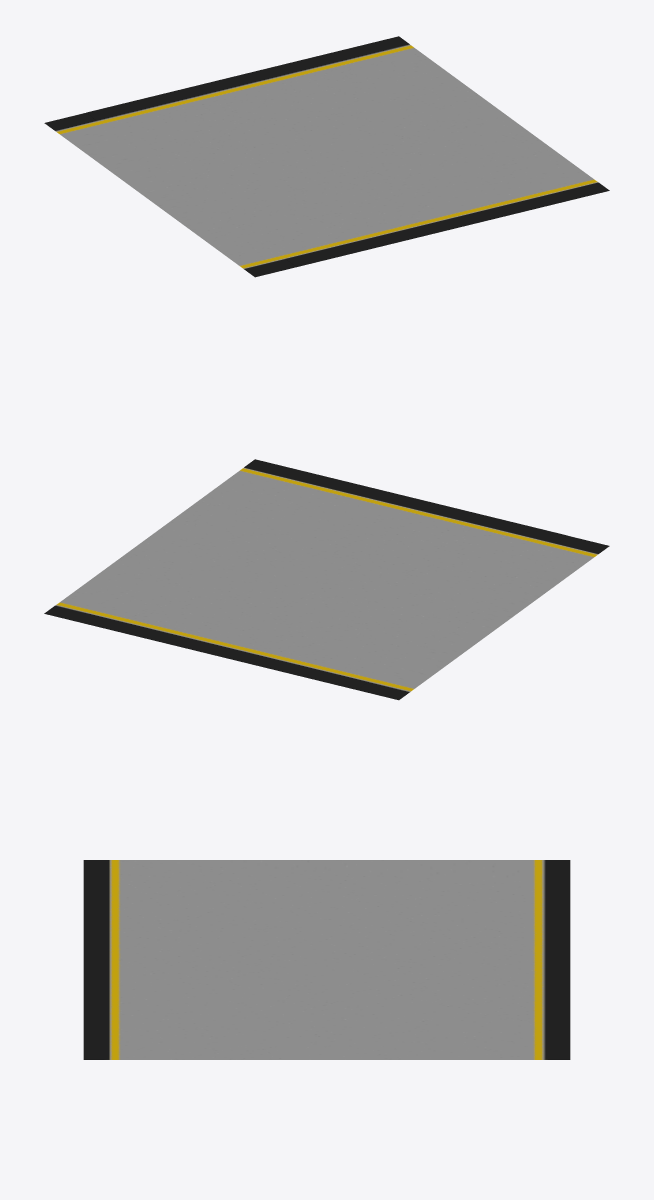
Rendered from floor-1_1.fbx.
3 renders of one model, top to bottom at view 1: azimuth 30°, elevation 25°; view 2: azimuth 150°, elevation 25°; view 3: azimuth 270°, elevation 25°, orthographic. The views are drawn at different scales.
Parts seen in each view (by area): view 1: pCube32; view 2: pCube32; view 3: pCube32.
Boxes of the visible parts, bbox=[...] form: pCube32: bbox=[44, 36, 609, 277]; pCube32: bbox=[44, 459, 609, 700]; pCube32: bbox=[83, 860, 570, 1059].
Bounding box in the file's own units: 3.4 × 1 × 4.5.
1 material, 1 textured.
